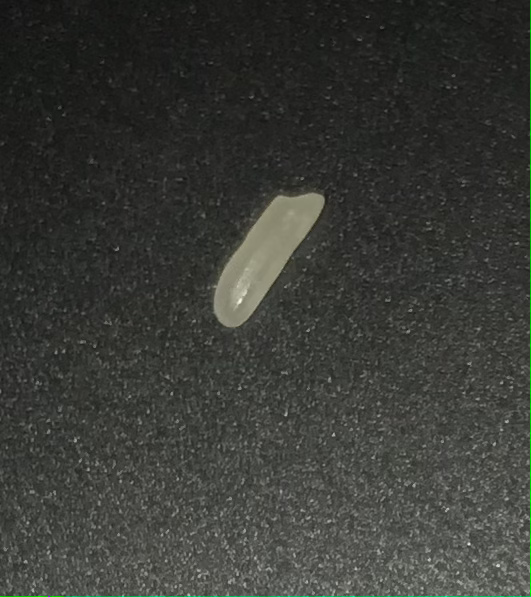Gao Long Lai: (204, 172, 326, 335)
